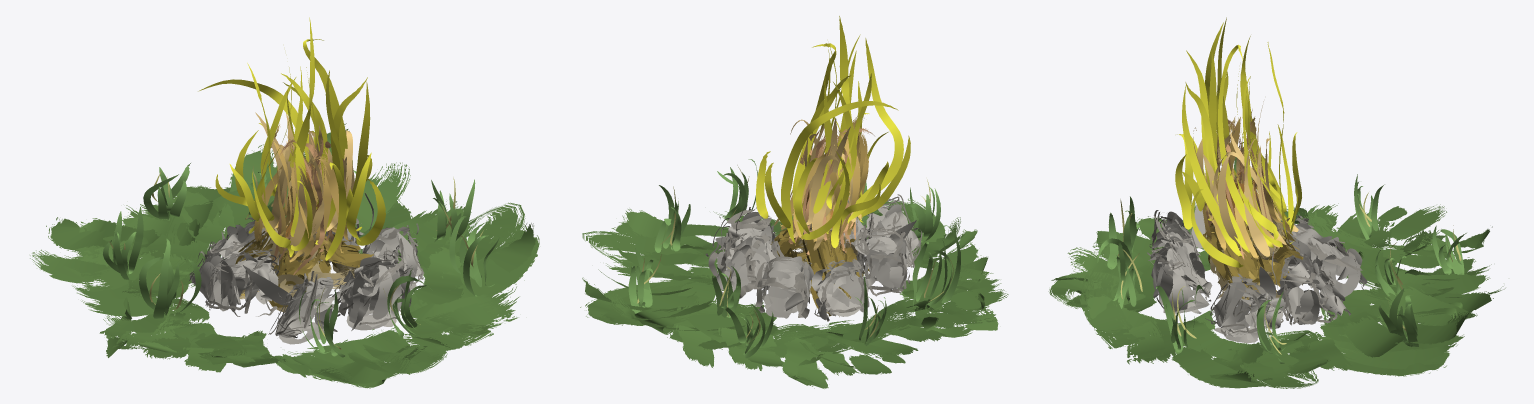
The model's file is firecamp.glb.
3 views of the same model, side by side, from view 1: azimuth 30°, elevation 25°; view 2: azimuth 150°, elevation 25°; view 3: azimuth 270°, elevation 25° (orthographic). The views are drawn at different scales.
Visible parts, largest first — view 1: brush_OilPaint_g0_b0_0, brush_TaperedMarker_g0_b0_3, brush_DoubleTaperedMarker_g0_b0_4; view 2: brush_OilPaint_g0_b0_0, brush_TaperedMarker_g0_b0_3, brush_DoubleTaperedMarker_g0_b0_4; view 3: brush_OilPaint_g0_b0_0, brush_TaperedMarker_g0_b0_3, brush_DoubleTaperedMarker_g0_b0_4.
Part boxes in pixels (x1=…): brush_OilPaint_g0_b0_0: x1=30, y1=123, x2=539, y2=388; brush_TaperedMarker_g0_b0_3: x1=103, y1=17, x2=499, y2=357; brush_DoubleTaperedMarker_g0_b0_4: x1=189, y1=193, x2=424, y2=337; brush_OilPaint_g0_b0_0: x1=580, y1=116, x2=1008, y2=388; brush_TaperedMarker_g0_b0_3: x1=628, y1=16, x2=960, y2=358; brush_DoubleTaperedMarker_g0_b0_4: x1=705, y1=194, x2=922, y2=321; brush_OilPaint_g0_b0_0: x1=1048, y1=116, x2=1505, y2=388; brush_TaperedMarker_g0_b0_3: x1=1097, y1=17, x2=1466, y2=363; brush_DoubleTaperedMarker_g0_b0_4: x1=1147, y1=210, x2=1364, y2=336.
Bounding box in the file's own units: 1.44 × 0.9389 × 1.41.
Materials: 3 (2 with a texture image).
